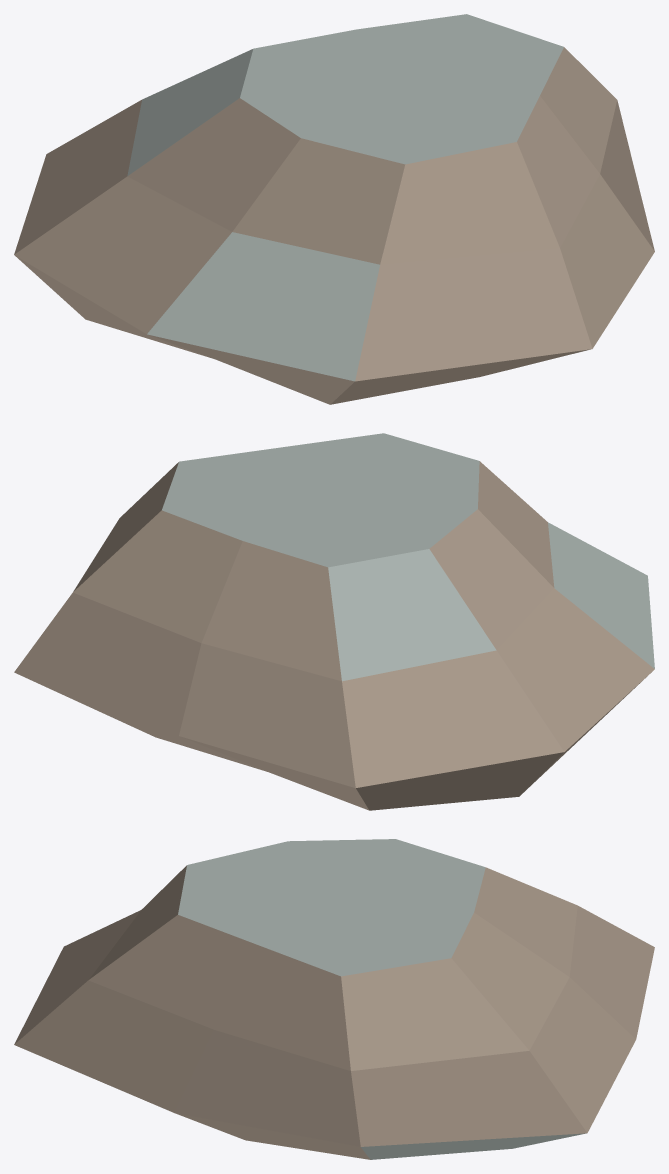
File: silt_bank.glb
3 renders of one model, top to bottom at view 1: azimuth 30°, elevation 25°; view 2: azimuth 150°, elevation 25°; view 3: azimuth 270°, elevation 25°, orthographic. The views are drawn at different scales.
Parts seen in each view (by area): view 1: silt_bank; view 2: silt_bank; view 3: silt_bank.
Boxes of the visible parts, x1=… form: silt_bank: x1=14, y1=14, x2=654, y2=404; silt_bank: x1=14, y1=433, x2=654, y2=810; silt_bank: x1=14, y1=839, x2=654, y2=1159.
Bounding box in the file's own units: 0.9325 × 0.34 × 0.9752.
